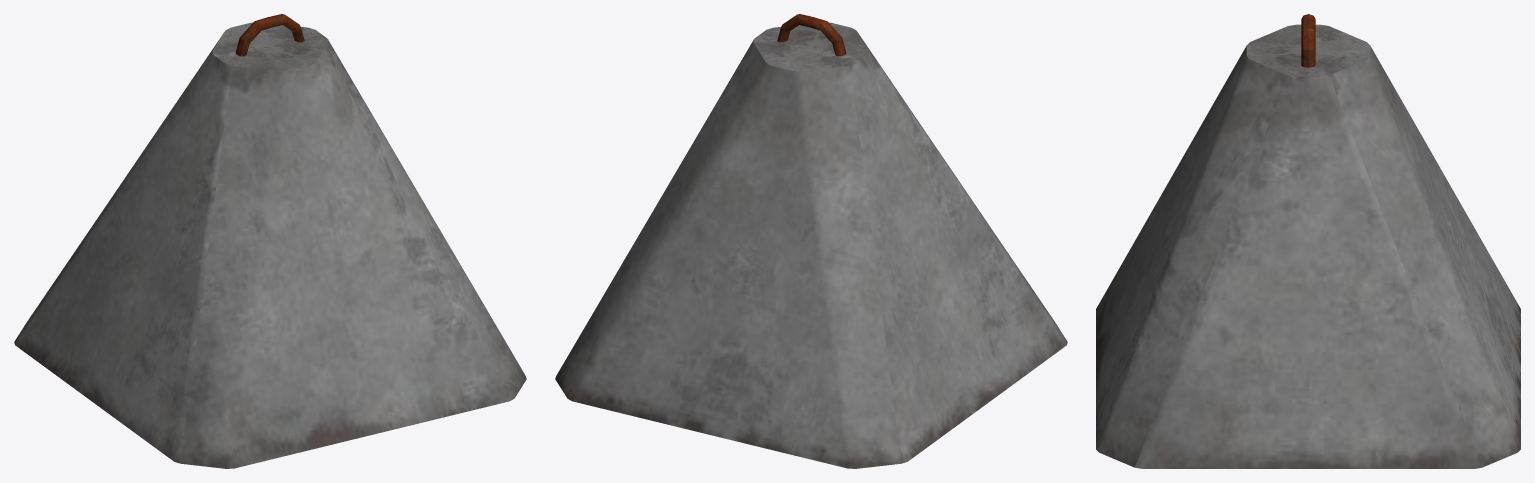
File: o3_cantiere_06.glb
The picture shows the model from 3 angles, left to right: view 1: azimuth 30°, elevation 25°; view 2: azimuth 150°, elevation 25°; view 3: azimuth 270°, elevation 25°; orthographic projection. The views are drawn at different scales.
Visible parts, largest first — view 1: sb_modello; view 2: sb_modello; view 3: sb_modello.
Part boxes in pixels (bbox=[...]): sb_modello: bbox=[14, 14, 526, 468]; sb_modello: bbox=[555, 14, 1067, 468]; sb_modello: bbox=[1096, 14, 1520, 468].
Bounding box in the file's own units: 0.7724 × 0.72 × 0.7724.
1 material, 1 textured.
